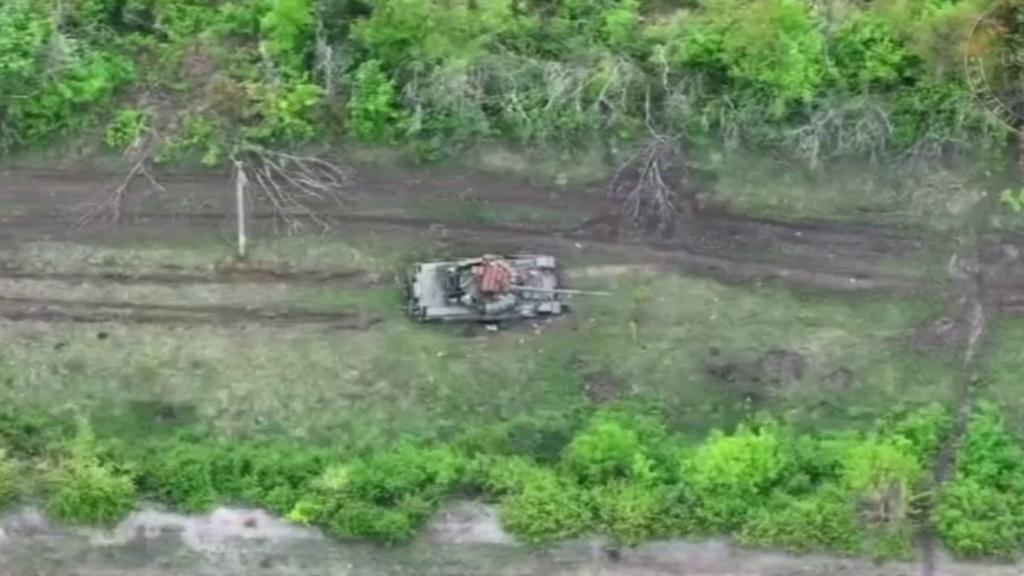TANK: (407, 242, 613, 327)
